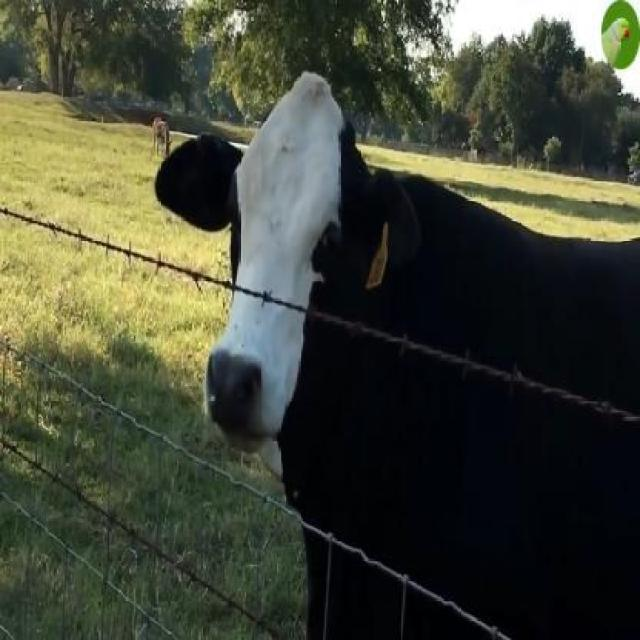Cow: (156, 74, 638, 638)
